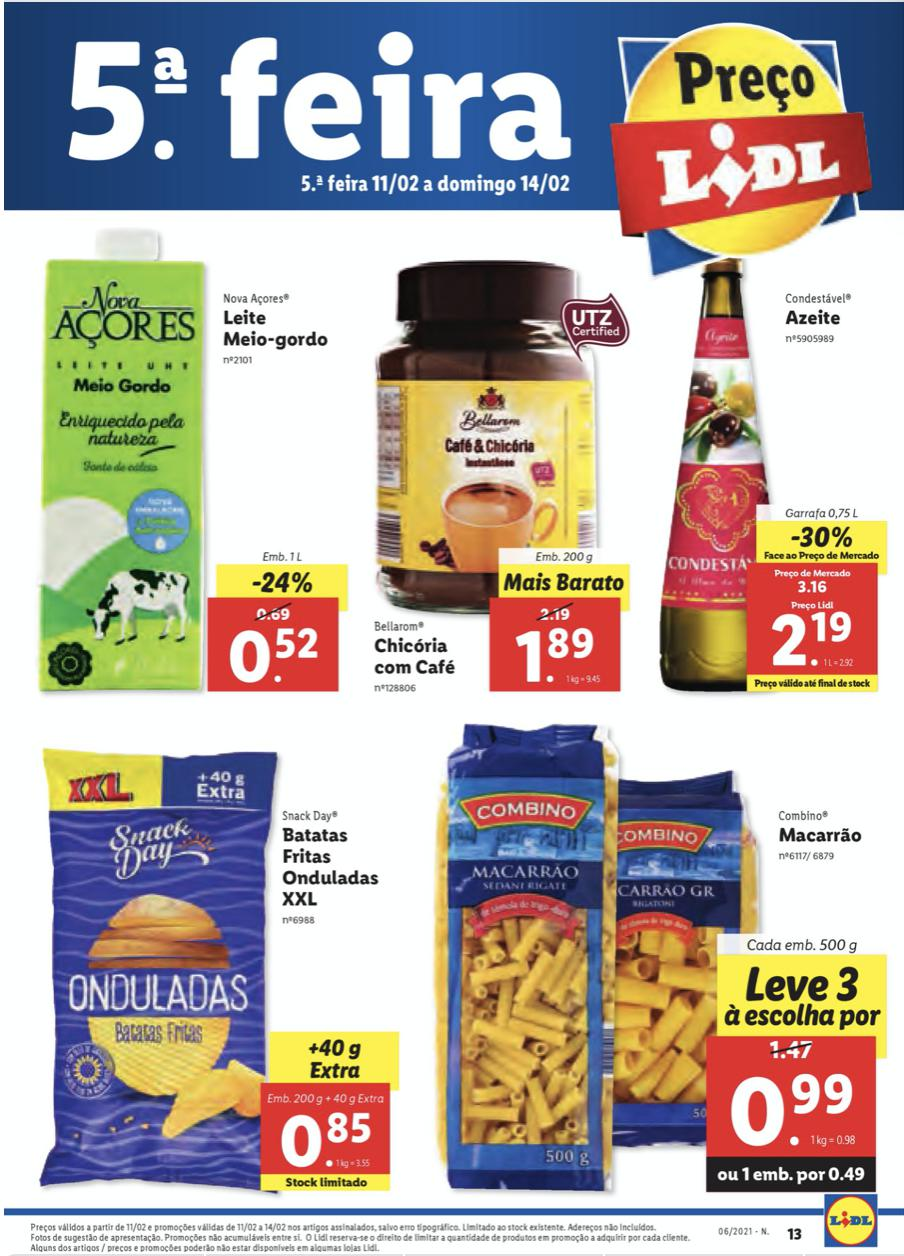name: (273, 822, 380, 910), (216, 304, 331, 350), (372, 636, 464, 675), (772, 819, 867, 850), (781, 308, 845, 332)
price: (731, 1072, 856, 1147), (228, 621, 323, 693), (514, 625, 606, 691), (769, 605, 856, 672), (281, 1108, 372, 1169)
product: (425, 711, 884, 1205), (28, 739, 405, 1200), (31, 224, 347, 705), (630, 246, 894, 696), (364, 254, 630, 696)
promotion: (245, 569, 316, 599), (791, 527, 853, 552)
